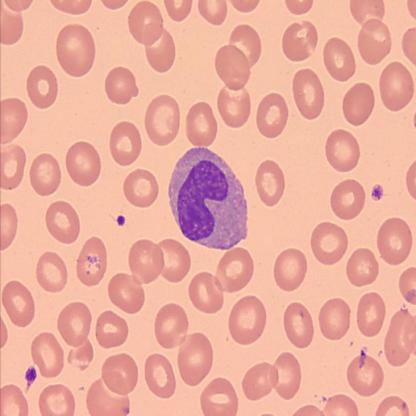Monocyte: (167, 145, 250, 252)
